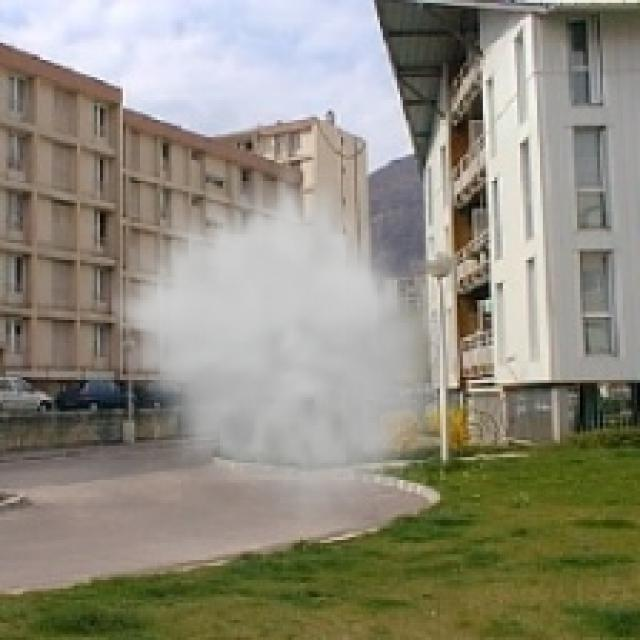Smoke: (112, 166, 457, 528)
